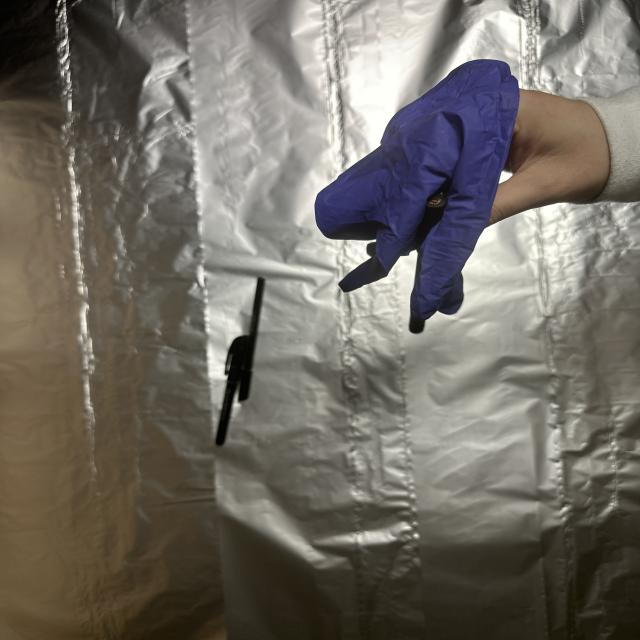glove_not_fitted: (294, 51, 640, 306)
